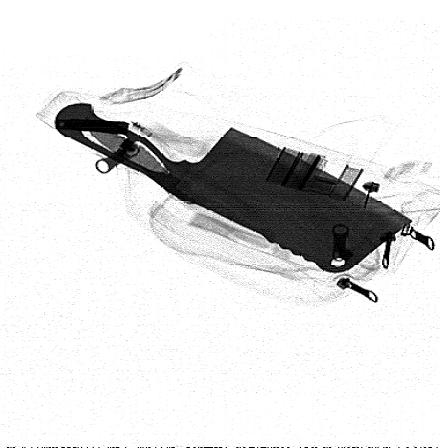Knife: (53, 101, 416, 275)
